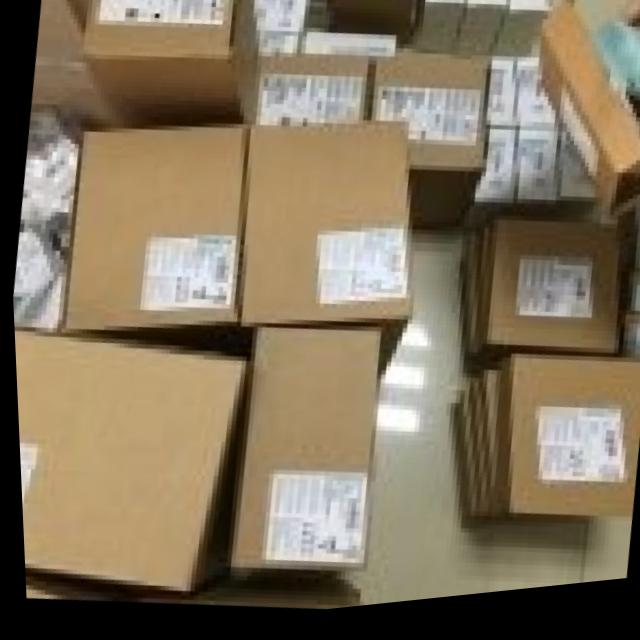box: (12, 331, 242, 591), (238, 130, 409, 387), (225, 332, 378, 575), (63, 130, 246, 330), (486, 364, 640, 531), (78, 0, 261, 131), (537, 7, 640, 233), (370, 69, 487, 241), (479, 230, 615, 362), (246, 58, 363, 132), (447, 381, 493, 538), (492, 0, 552, 67), (450, 0, 509, 63), (510, 141, 560, 214), (252, 0, 310, 62), (513, 68, 556, 144), (473, 140, 514, 214), (326, 0, 417, 32), (420, 0, 466, 60), (558, 144, 596, 213), (300, 39, 395, 65), (484, 67, 514, 137)
